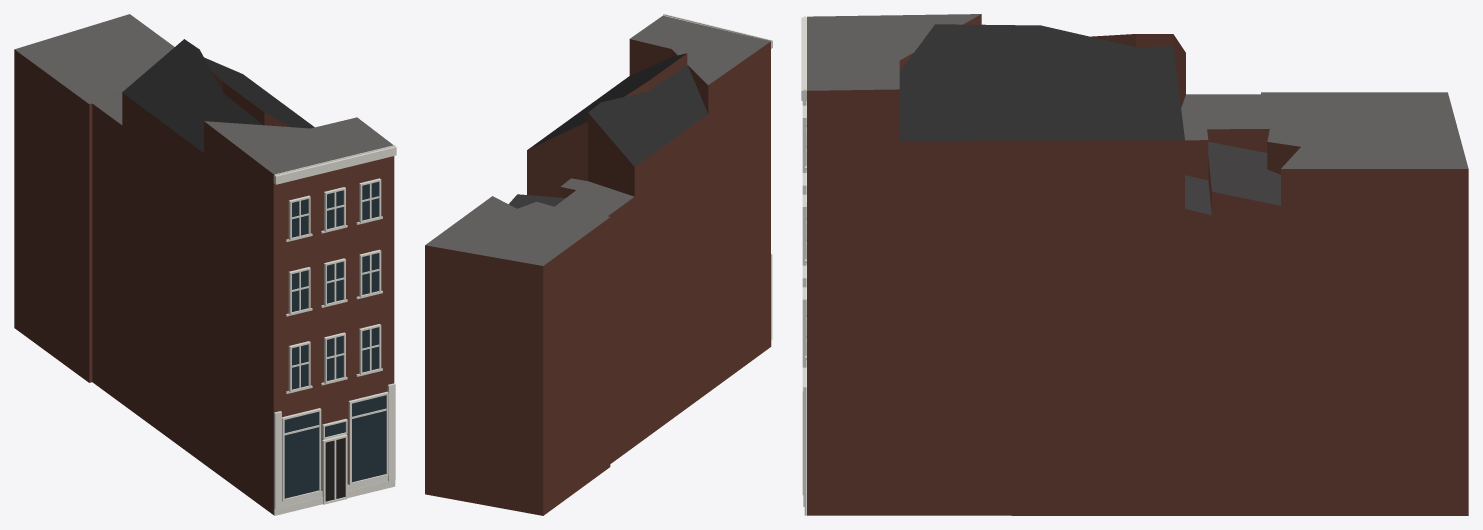
3 views of the same model, side by side, from view 1: azimuth 30°, elevation 25°; view 2: azimuth 150°, elevation 25°; view 3: azimuth 270°, elevation 25° (orthographic). The views are drawn at different scales.
Visible parts, largest first — view 1: spec-0363100012182777; view 2: spec-0363100012182777; view 3: spec-0363100012182777.
Part boxes in pixels (bbox=[...]): spec-0363100012182777: bbox=[14, 14, 396, 515]; spec-0363100012182777: bbox=[425, 14, 772, 515]; spec-0363100012182777: bbox=[801, 14, 1468, 515].
Bounding box in the file's own units: 5.5 × 15.09 × 20.58.
